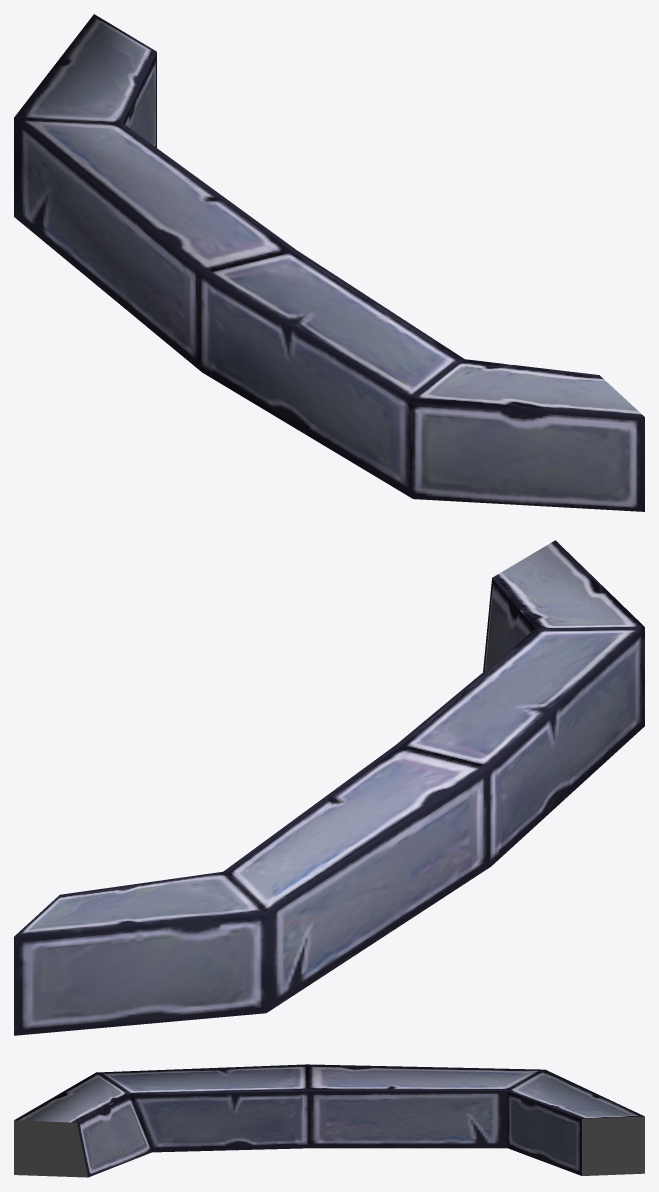
Rendered from dungeon_wall_column7m_plinth.fbx.
3 renders of one model, top to bottom at view 1: azimuth 30°, elevation 25°; view 2: azimuth 150°, elevation 25°; view 3: azimuth 270°, elevation 25°, orthographic. The views are drawn at different scales.
Parts seen in each view (by area): view 1: Object108.004; view 2: Object108.004; view 3: Object108.004.
Boxes of the visible parts, <box> form: Object108.004: <box>14,14,644,511</box>; Object108.004: <box>14,540,644,1035</box>; Object108.004: <box>14,1064,644,1177</box>.
Bounding box in the file's own units: 52.3 × 25 × 250.
